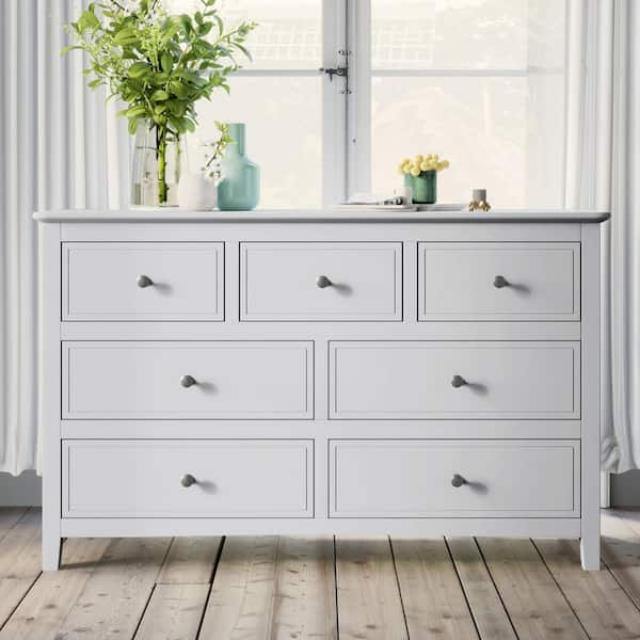dresser: (25, 209, 626, 590)
